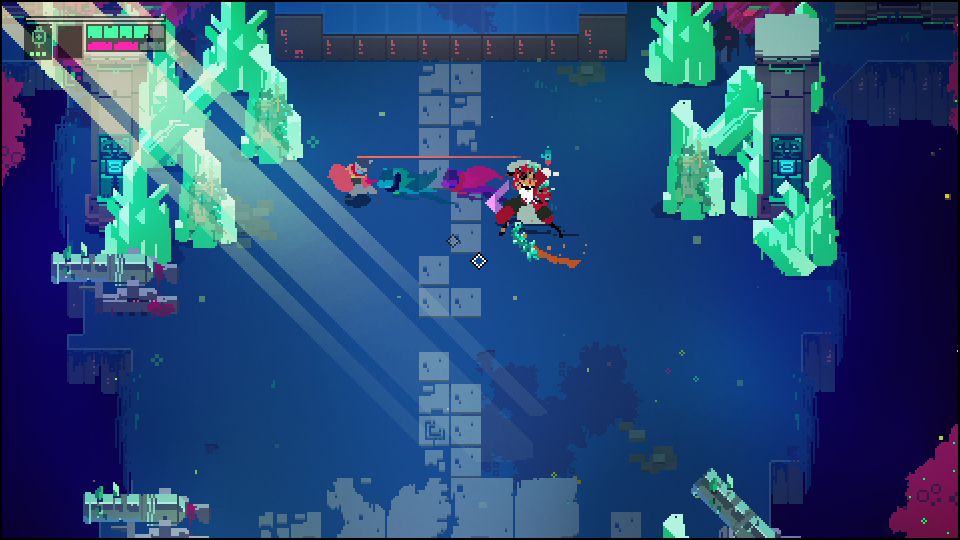hanged_man: (489, 159, 586, 269)
player: (327, 161, 377, 201)
